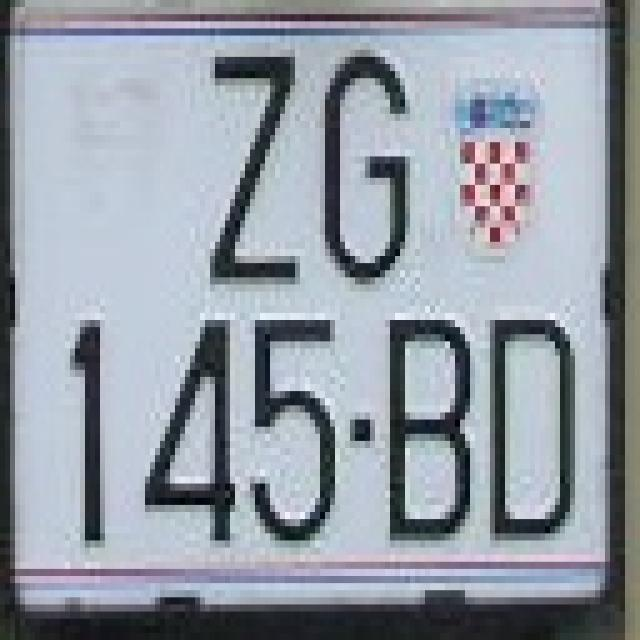1: (65, 312, 125, 548)
4: (140, 306, 240, 562)
5: (245, 298, 345, 548)
B: (380, 306, 480, 548)
D: (480, 292, 580, 554)
G: (310, 43, 410, 284)
Z: (200, 43, 300, 284)
